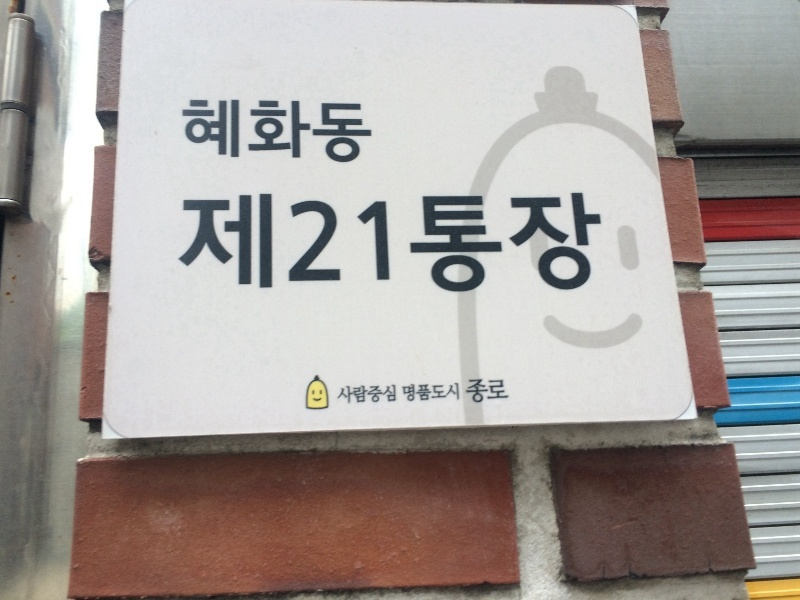text: (417, 190, 432, 297), (433, 190, 448, 297), (449, 190, 464, 297), (465, 190, 480, 297), (481, 190, 496, 297), (497, 190, 512, 297), (513, 190, 528, 297), (529, 190, 544, 297), (545, 190, 560, 297), (561, 190, 576, 297), (577, 190, 592, 297), (193, 190, 208, 296), (209, 190, 224, 296), (225, 190, 240, 296), (241, 190, 256, 296), (257, 190, 272, 296), (273, 190, 288, 296), (289, 190, 304, 296), (305, 190, 320, 296), (321, 190, 336, 296), (337, 190, 352, 296), (353, 190, 368, 296), (369, 190, 384, 296), (593, 190, 607, 297), (193, 94, 208, 168), (209, 94, 224, 168), (225, 94, 240, 168), (241, 94, 256, 168), (257, 94, 272, 168), (273, 94, 288, 168), (289, 94, 304, 168), (305, 94, 320, 168), (321, 94, 336, 168), (337, 94, 352, 168), (353, 94, 368, 168), (183, 190, 192, 296), (180, 94, 192, 168), (385, 190, 393, 296), (369, 94, 378, 168), (481, 379, 496, 405), (466, 379, 480, 405), (497, 379, 510, 405), (353, 384, 368, 404), (369, 384, 384, 404), (417, 382, 432, 402), (433, 382, 448, 402), (402, 382, 416, 402), (340, 384, 352, 404), (385, 384, 396, 404), (449, 382, 460, 402), (415, 190, 416, 297)
